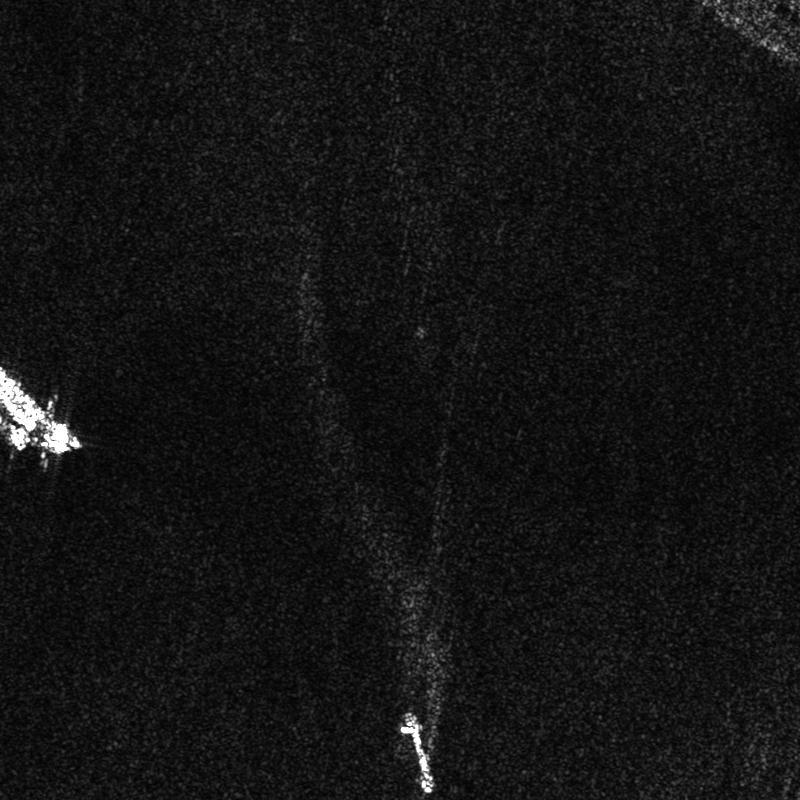ship: (0, 367, 81, 453), (401, 713, 434, 794), (0, 415, 31, 452)
